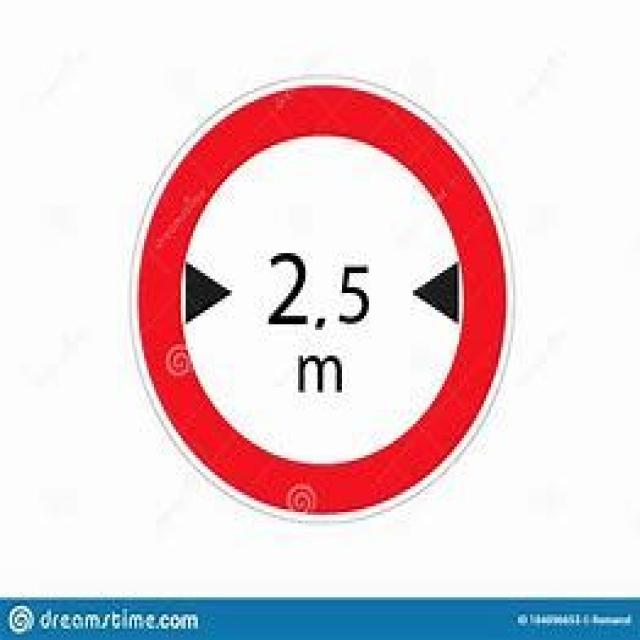WIDTH_LIMIT: (116, 62, 532, 548)
